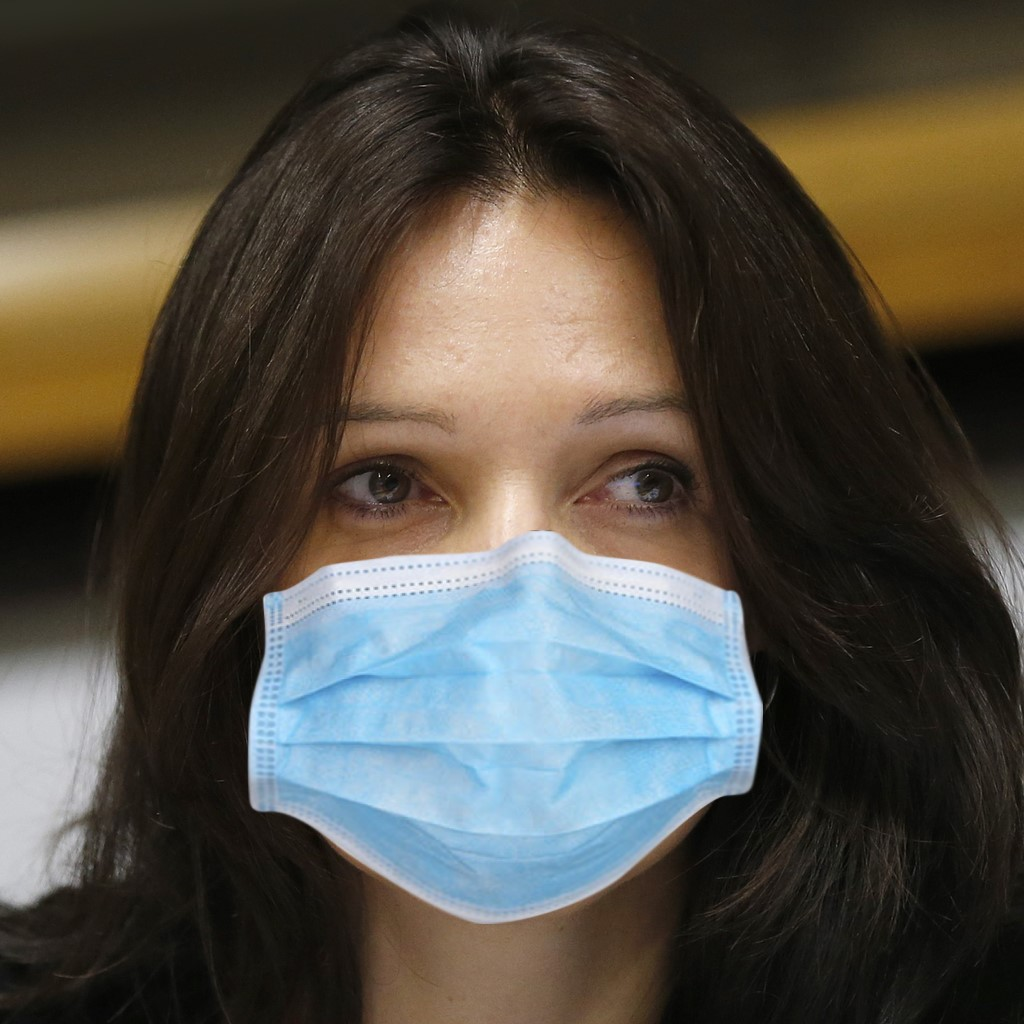con_mascara: (203, 93, 799, 925)
